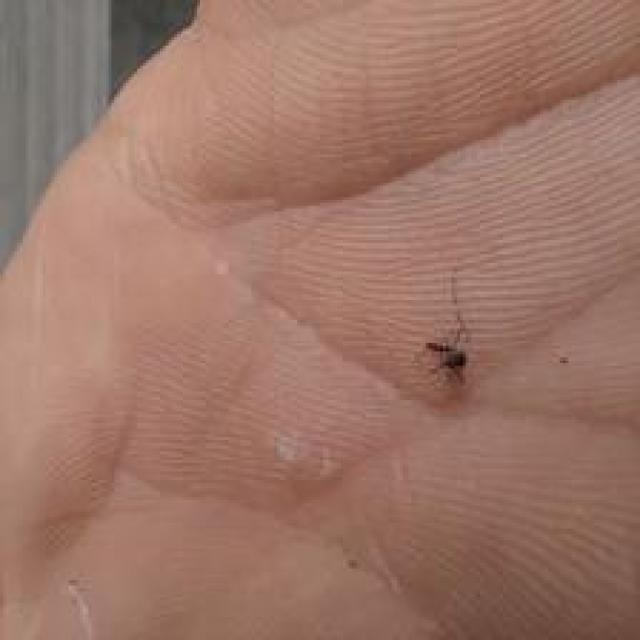Aedes albopictus: (421, 268, 473, 386)
